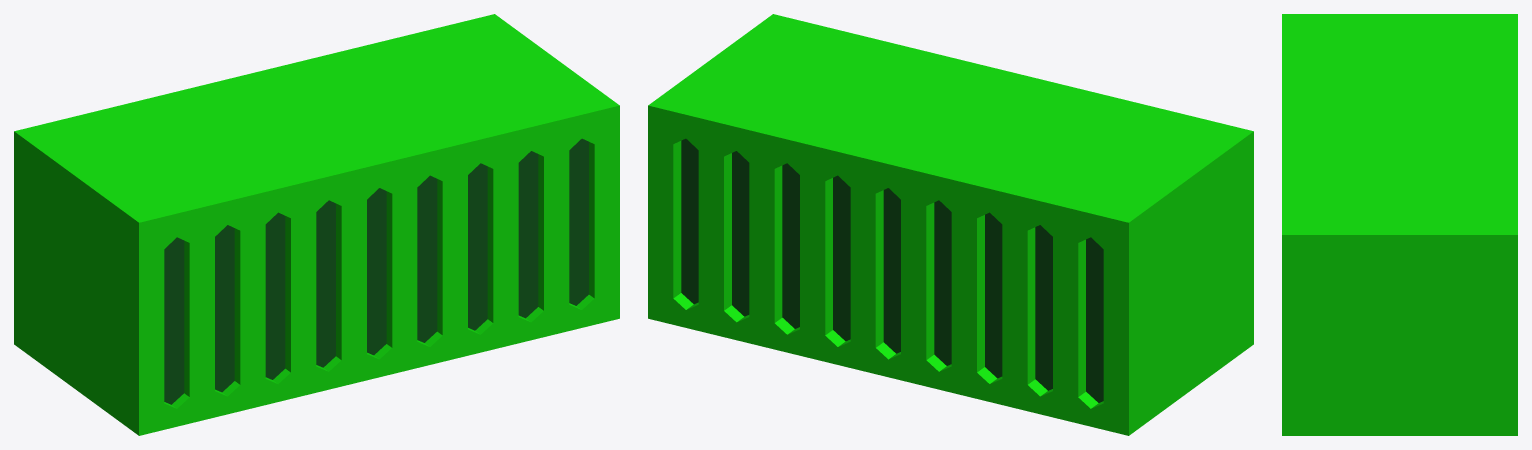
The model's file is container4.FBX.
3 renders of one model, left to right at view 1: azimuth 30°, elevation 25°; view 2: azimuth 150°, elevation 25°; view 3: azimuth 270°, elevation 25°, orthographic. The views are drawn at different scales.
Parts seen in each view (by area): view 1: Box001; view 2: Box001; view 3: Box001.
Boxes of the visible parts, x1,y1,x2,y2 form: Box001: (14, 14, 619, 435); Box001: (648, 14, 1253, 435); Box001: (1282, 14, 1517, 435).
Size of the model in its own units: 114 by 48.16 by 51.2.
